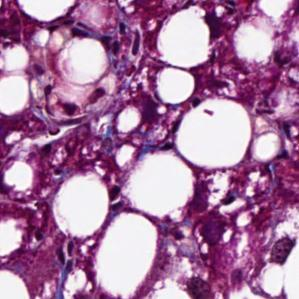inflammation: (54, 89, 115, 126), (50, 231, 87, 278)
